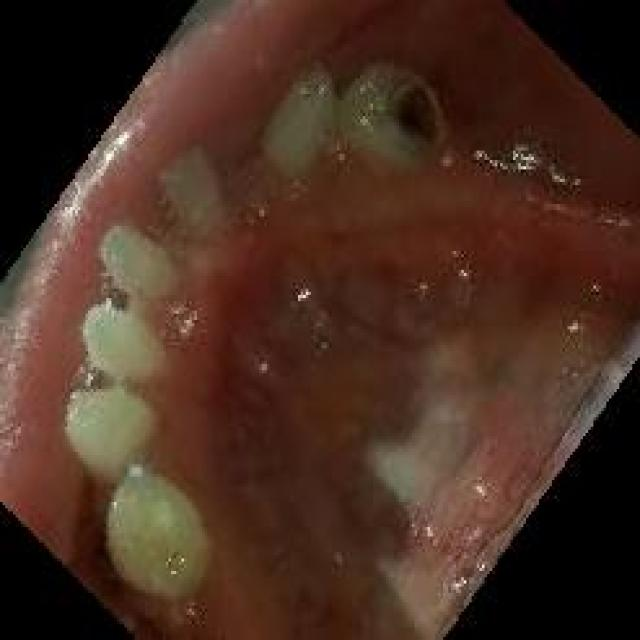caries: (370, 66, 460, 168)
